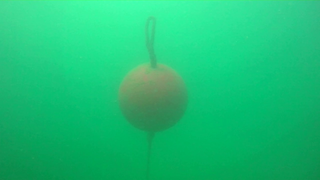buoy: (117, 63, 188, 132)
